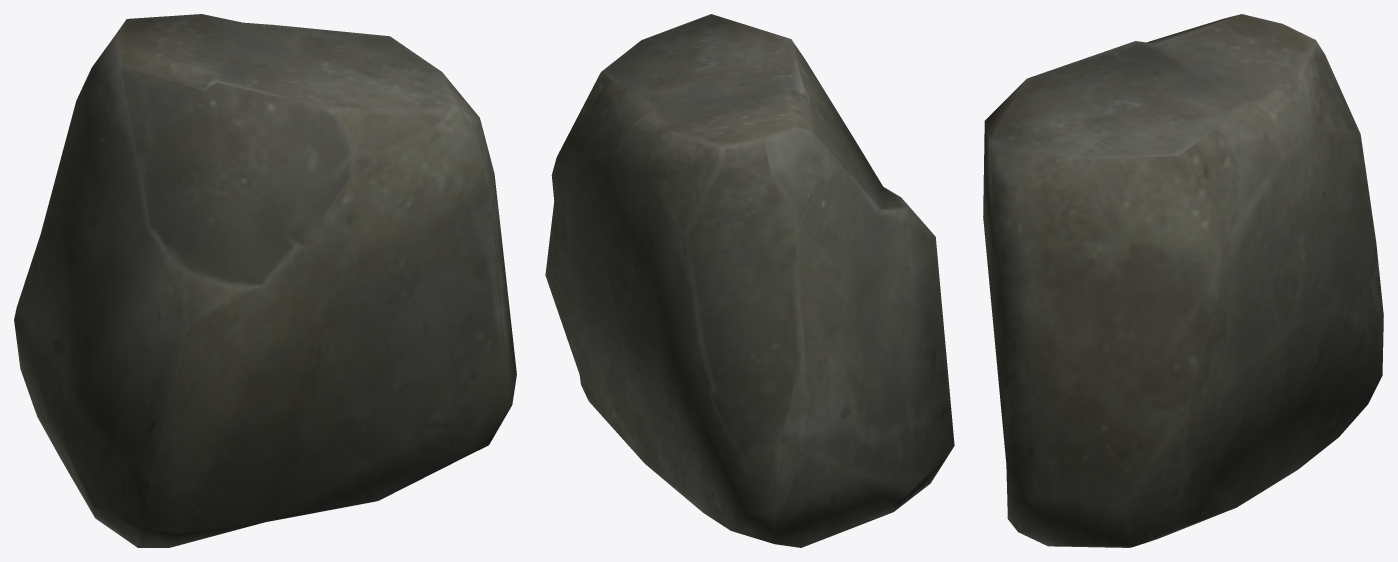
The model's file is Rock7.fbx.
The picture shows the model from 3 angles, left to right: view 1: azimuth 30°, elevation 25°; view 2: azimuth 150°, elevation 25°; view 3: azimuth 270°, elevation 25°; orthographic projection. The views are drawn at different scales.
Parts seen in each view (by area): view 1: RockWall_Rock2_Retopo.002_Plane.023; view 2: RockWall_Rock2_Retopo.002_Plane.023; view 3: RockWall_Rock2_Retopo.002_Plane.023.
Part boxes in pixels (bbox=[...]): RockWall_Rock2_Retopo.002_Plane.023: bbox=[14, 14, 516, 547]; RockWall_Rock2_Retopo.002_Plane.023: bbox=[545, 14, 954, 547]; RockWall_Rock2_Retopo.002_Plane.023: bbox=[983, 14, 1383, 547].
Bounding box in the file's own units: 210 × 229 × 192.
